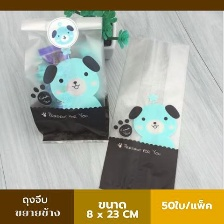snack: (89, 29, 195, 189), (12, 10, 117, 147)
